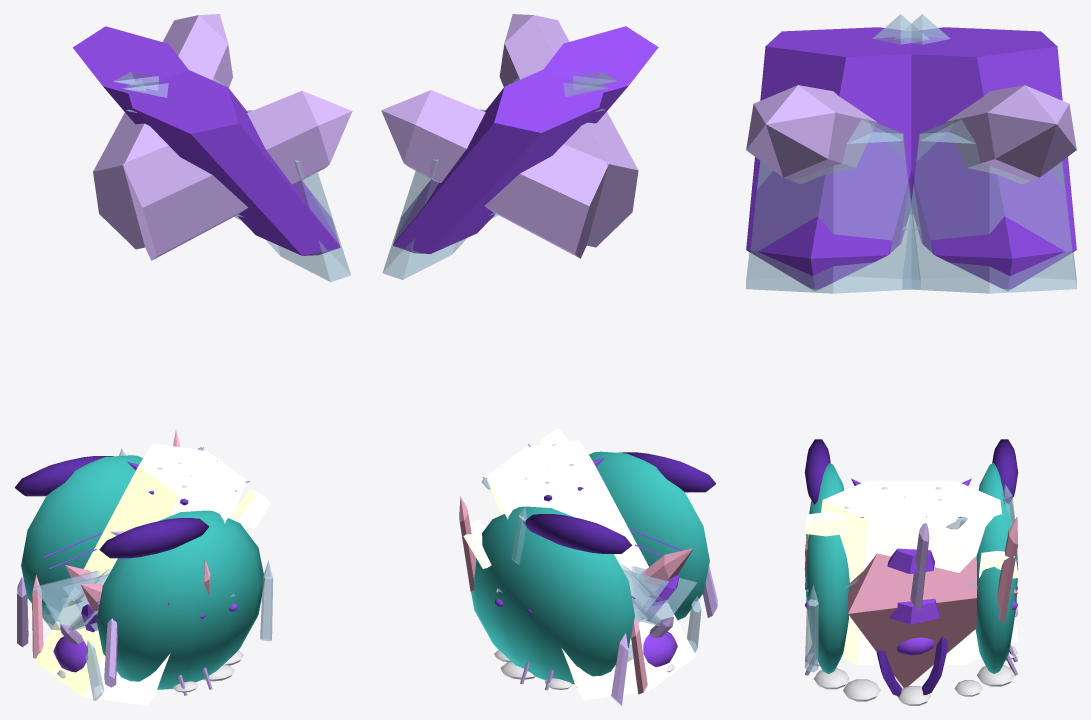
File: maitre-cristal.glb
3 renders of one model, left to right at view 1: azimuth 30°, elevation 25°; view 2: azimuth 150°, elevation 25°; view 3: azimuth 270°, elevation 25°, orthographic. The views are drawn at different scales.
Visible parts, largest first — view 1: maitre_cristal_corps, maitre_cristal_brasFalse, maitre_cristal_brasTrue, maitre_cristal_coeur, maitre_cristal_eclats, maitre_cristal_coeurs; view 2: maitre_cristal_corps, maitre_cristal_brasTrue, maitre_cristal_brasFalse, maitre_cristal_coeur, maitre_cristal_eclats, maitre_cristal_coeurs; view 3: maitre_cristal_brasFalse, maitre_cristal_brasTrue, maitre_cristal_corps, maitre_cristal_coeur, maitre_cristal_eclats, maitre_cristal_coeurs.
Boxes of the visible parts, x1,y1,x2,y2 form: maitre_cristal_corps: (14, 447, 264, 695); maitre_cristal_brasFalse: (122, 70, 352, 281); maitre_cristal_brasTrue: (73, 14, 241, 249); maitre_cristal_coeur: (34, 443, 247, 705); maitre_cristal_eclats: (17, 430, 273, 700); maitre_cristal_coeurs: (50, 489, 270, 675); maitre_cristal_corps: (471, 444, 715, 690); maitre_cristal_brasTrue: (381, 69, 609, 279); maitre_cristal_brasFalse: (491, 14, 658, 247); maitre_cristal_coeur: (485, 440, 696, 700); maitre_cristal_eclats: (459, 466, 717, 705); maitre_cristal_coeurs: (460, 428, 668, 678); maitre_cristal_brasFalse: (746, 14, 928, 293); maitre_cristal_brasTrue: (894, 14, 1076, 293); maitre_cristal_corps: (804, 439, 1018, 705); maitre_cristal_coeur: (805, 480, 1017, 664); maitre_cristal_eclats: (804, 484, 1018, 672); maitre_cristal_coeurs: (804, 512, 1018, 635).
Size of the model in its own units: 2.7 by 6.6 by 3.1.
